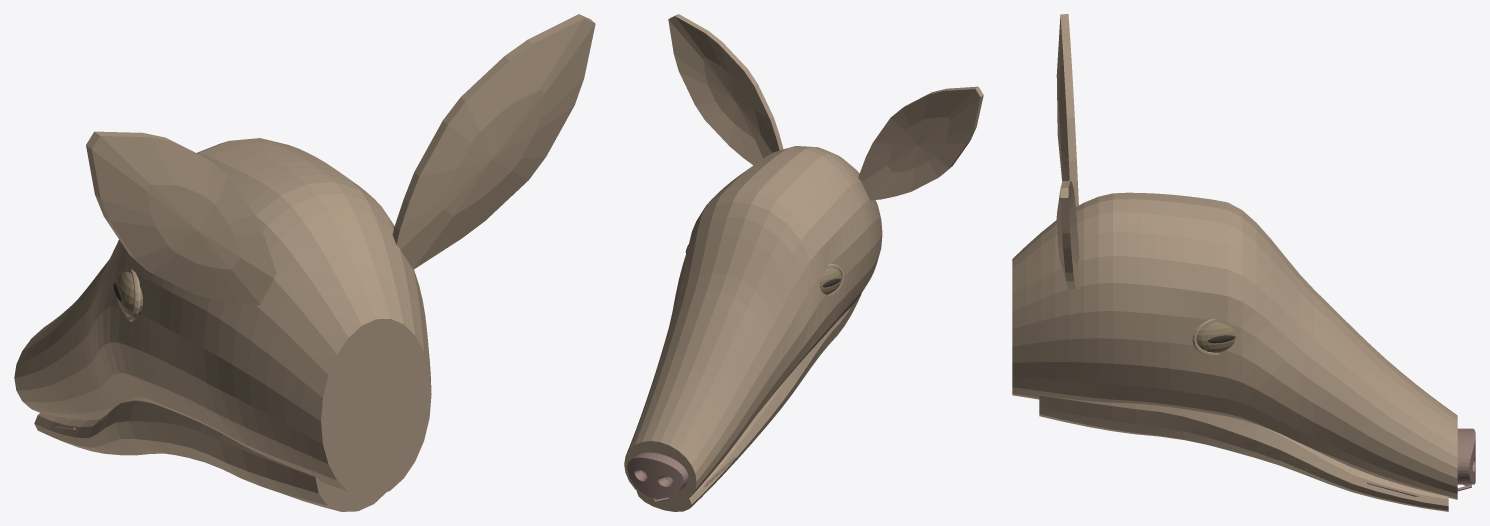
The model's file is deer_head_01.glb.
3 renders of one model, left to right at view 1: azimuth 30°, elevation 25°; view 2: azimuth 150°, elevation 25°; view 3: azimuth 270°, elevation 25°, orthographic. The views are drawn at different scales.
Visible parts, largest first — view 1: CervidCranium, CervidEarR, CervidEarL, CervidJaw, CervidEyeL; view 2: CervidCranium, CervidEarL, CervidEarR, CervidJaw, CervidNose, CervidEyeL; view 3: CervidCranium, CervidJaw, CervidEarL, CervidEarR, CervidNose, CervidEyeR.
Boxes of the visible parts, x1=… form: CervidCranium: x1=14, y1=138, x2=431, y2=497; CervidEarR: x1=392, y1=14, x2=595, y2=269; CervidEarL: x1=86, y1=131, x2=276, y2=305; CervidJaw: x1=34, y1=400, x2=385, y2=511; CervidEyeL: x1=117, y1=271, x2=142, y2=316; CervidCranium: x1=624, y1=146, x2=882, y2=505; CervidEarL: x1=858, y1=86, x2=983, y2=200; CervidEarR: x1=668, y1=14, x2=783, y2=165; CervidJaw: x1=636, y1=294, x2=861, y2=511; CervidNose: x1=627, y1=452, x2=688, y2=498; CervidEyeL: x1=819, y1=267, x2=842, y2=294; CervidCranium: x1=1012, y1=192, x2=1457, y2=499; CervidJaw: x1=1039, y1=395, x2=1448, y2=511; CervidEarL: x1=1056, y1=14, x2=1078, y2=206; CervidEarR: x1=1056, y1=180, x2=1079, y2=290; CervidNose: x1=1457, y1=428, x2=1475, y2=484; CervidEyeR: x1=1196, y1=322, x2=1236, y2=352.
Bounding box in the file's own units: 0.38 × 0.3961 × 0.412.
